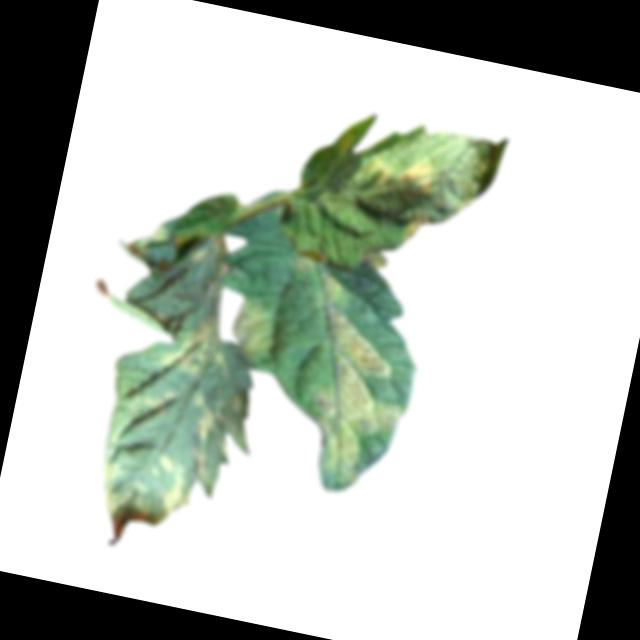Leaf_Mold: (278, 268, 428, 492), (92, 440, 190, 522), (188, 385, 245, 482), (351, 145, 437, 205), (156, 309, 219, 381), (220, 297, 279, 365), (399, 210, 433, 248), (288, 246, 325, 278), (332, 125, 355, 161)
